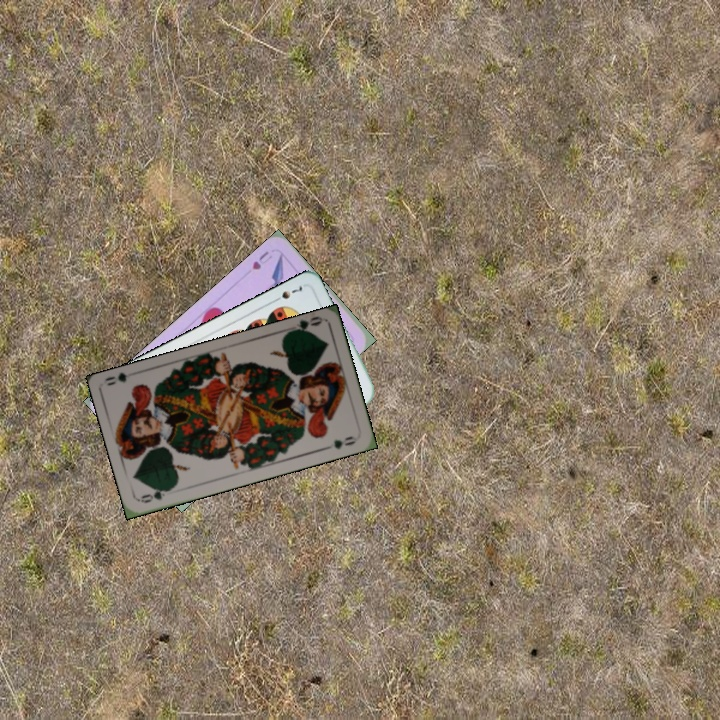GO: (285, 313, 324, 336), (137, 483, 176, 506)
HU: (248, 247, 275, 273)
S7: (268, 281, 305, 305)
